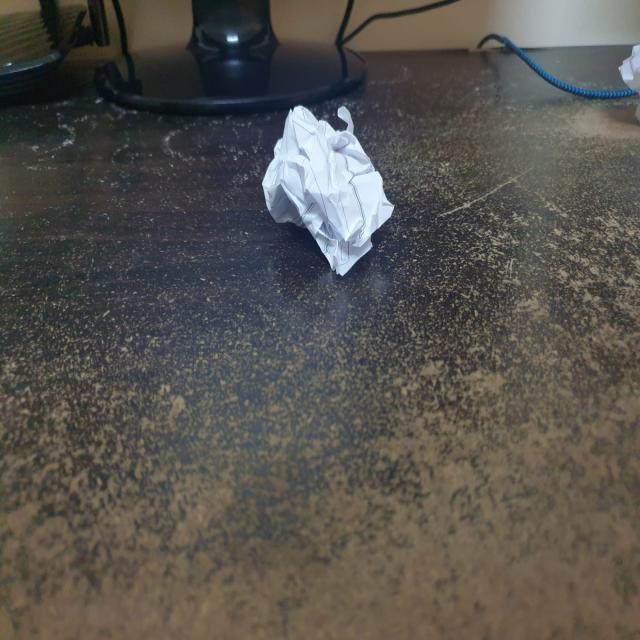Paper: (263, 104, 395, 272)
